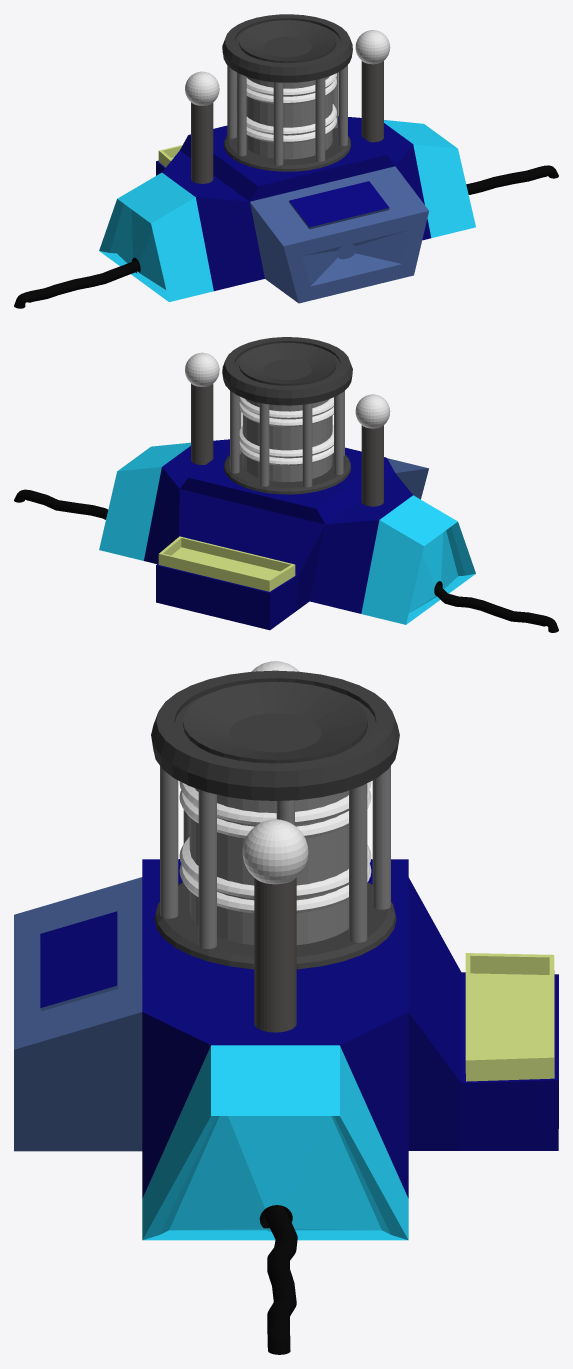
File: Generator.fbx
The picture shows the model from 3 angles, top to bottom: view 1: azimuth 30°, elevation 25°; view 2: azimuth 150°, elevation 25°; view 3: azimuth 270°, elevation 25°; orthographic projection. The views are drawn at different scales.
Visible parts, largest first — view 1: Cube.007, Cylinder.001; view 2: Cube.007, Cylinder.001; view 3: Cube.007, Cylinder.001.
Part boxes in pixels (bbox=[...]): Cube.007: bbox=[14, 30, 558, 308]; Cylinder.001: bbox=[222, 14, 352, 171]; Cube.007: bbox=[14, 352, 558, 632]; Cylinder.001: bbox=[222, 337, 352, 494]; Cube.007: bbox=[14, 661, 558, 1354]; Cylinder.001: bbox=[151, 670, 399, 969].
Size of the model in its own units: 444 by 157 by 203.
